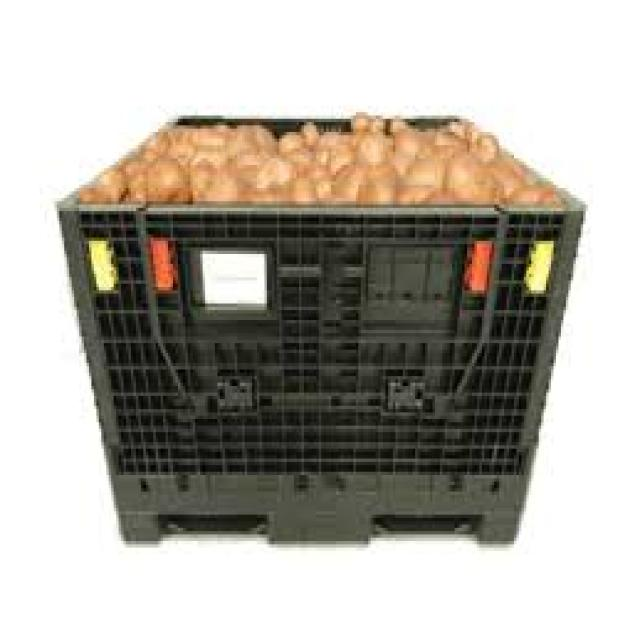basket: (59, 115, 586, 544)
